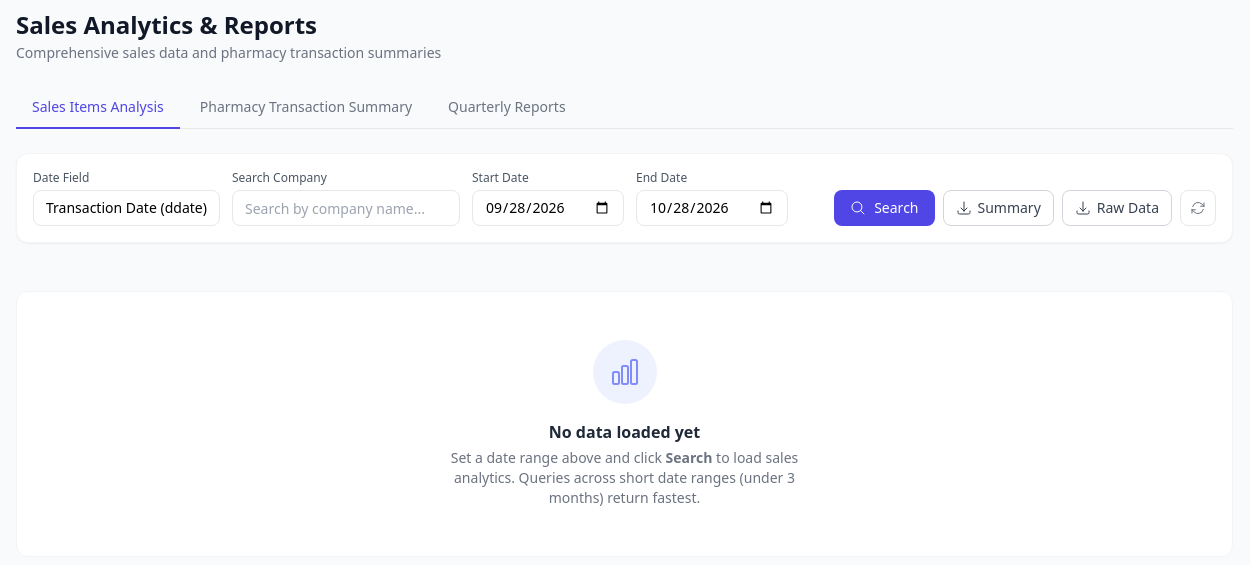
Test case: sales reports › loads the summary and the company breakdown when searched
This screenshot has width=1250, height=565.
Click the button "Search".
click(884, 208)  # box [834,190,934,226]
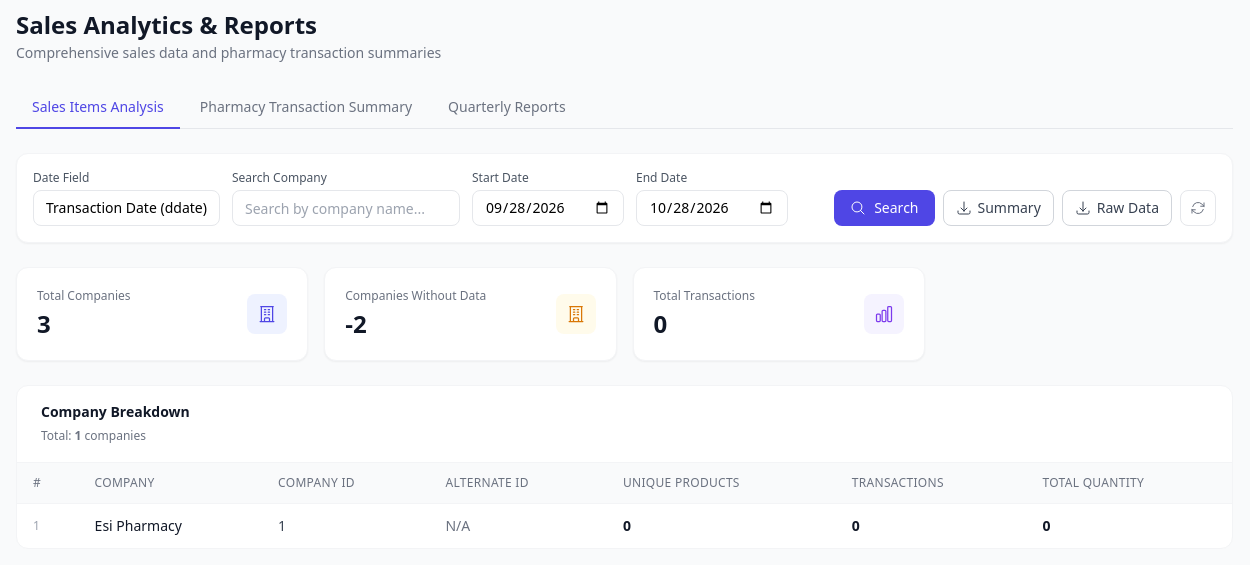
expect the text "Esi Pharmacy" is shown: met, box [79,504,262,548]
